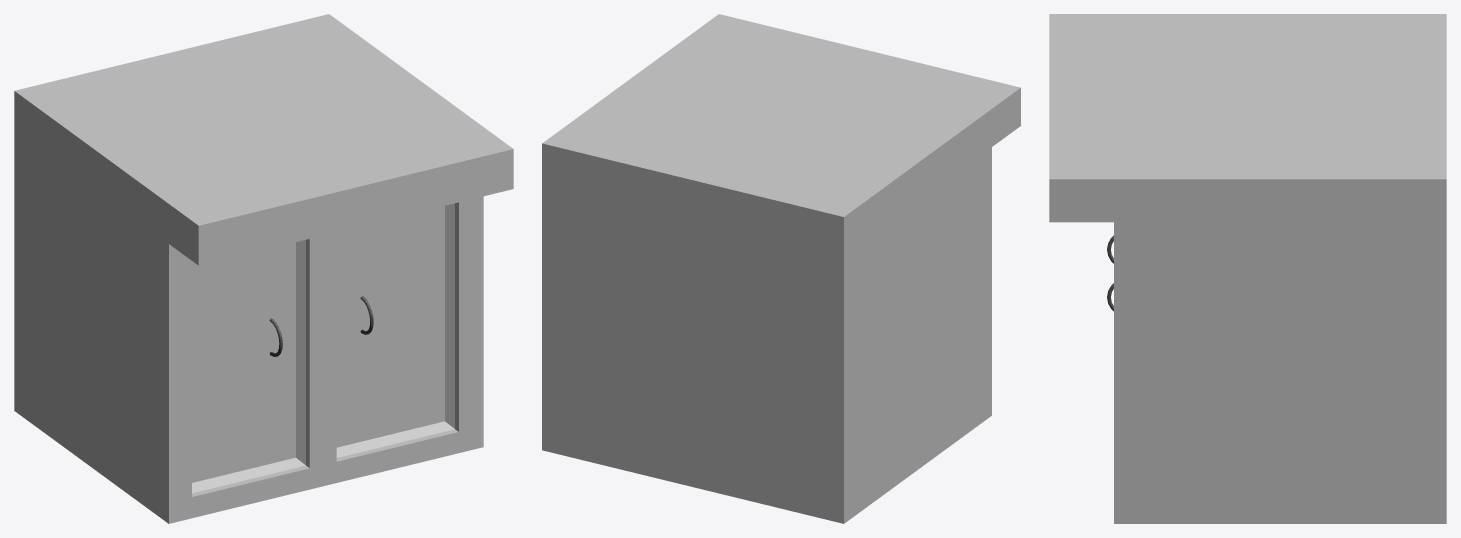
Rendered from kitchenCounter.fbx.
3 renders of one model, left to right at view 1: azimuth 30°, elevation 25°; view 2: azimuth 150°, elevation 25°; view 3: azimuth 270°, elevation 25°, orthographic. The views are drawn at different scales.
Visible parts, largest first — view 1: kitchenCounterBase; view 2: kitchenCounterBase; view 3: kitchenCounterBase.
Part boxes in pixels (x1,y1,x2,y2): kitchenCounterBase: (14,14,513,523); kitchenCounterBase: (542,14,1020,523); kitchenCounterBase: (1049,14,1446,523).
Size of the model in its own units: 1 by 0.9714 by 1.01.
